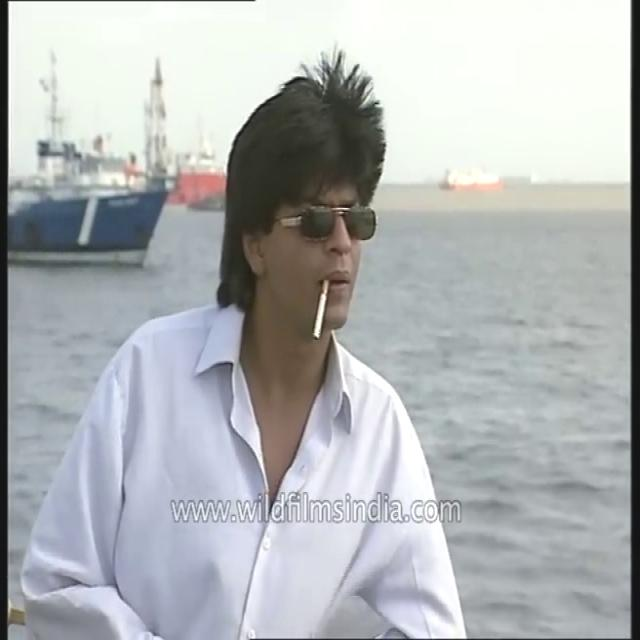Smooking: (305, 277, 335, 346)
